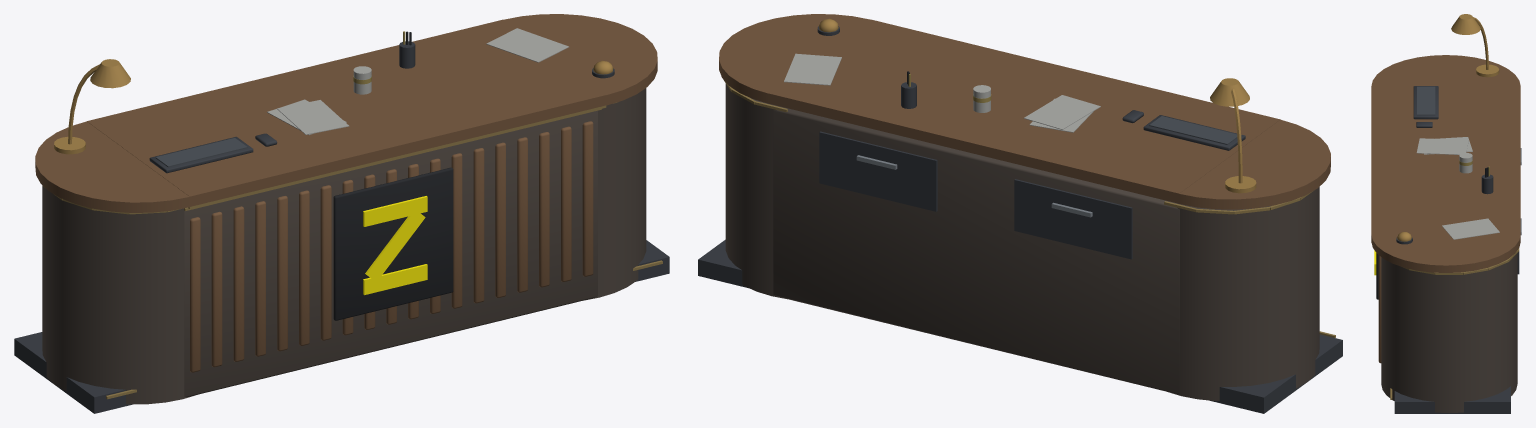
File: desk.glb
3 views of the same model, side by side, from view 1: azimuth 30°, elevation 25°; view 2: azimuth 150°, elevation 25°; view 3: azimuth 270°, elevation 25° (orthographic). The views are drawn at different scales.
Parts seen in each view (by area): view 1: Body; view 2: Body; view 3: Body.
Boxes of the visible parts, x1,y1,x2,y2 form: Body: (14,14,669,413); Body: (698,14,1342,413); Body: (1371,14,1521,413).
Size of the model in its own units: 3 by 1.44 by 0.905.
